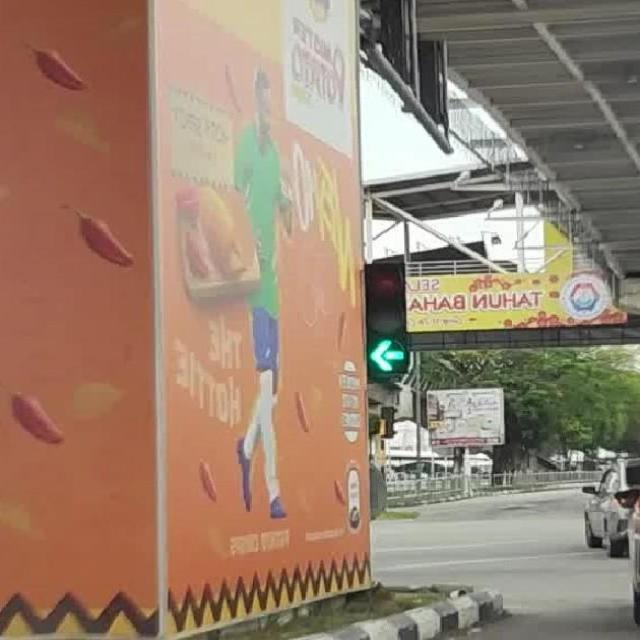car: (582, 453, 640, 559)
traffic light: (364, 263, 410, 384)
